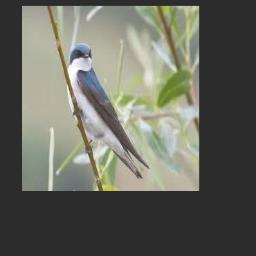Swallow: (66, 43, 149, 179)
